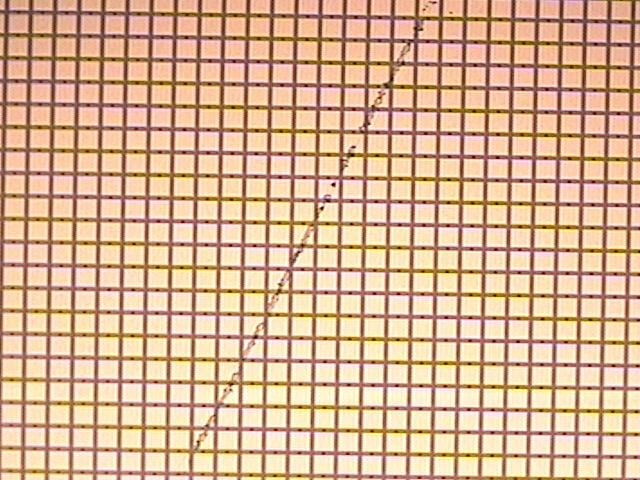SCRATCH: (175, 1, 450, 472)
